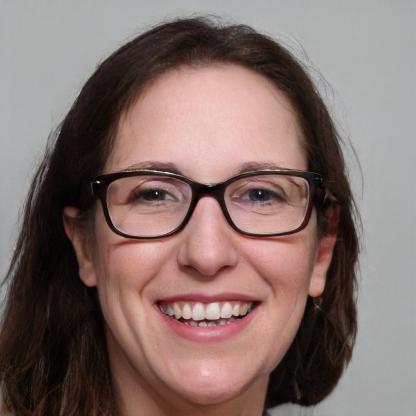glasses: (92, 162, 316, 243)
